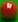red: (0, 0, 18, 22)
